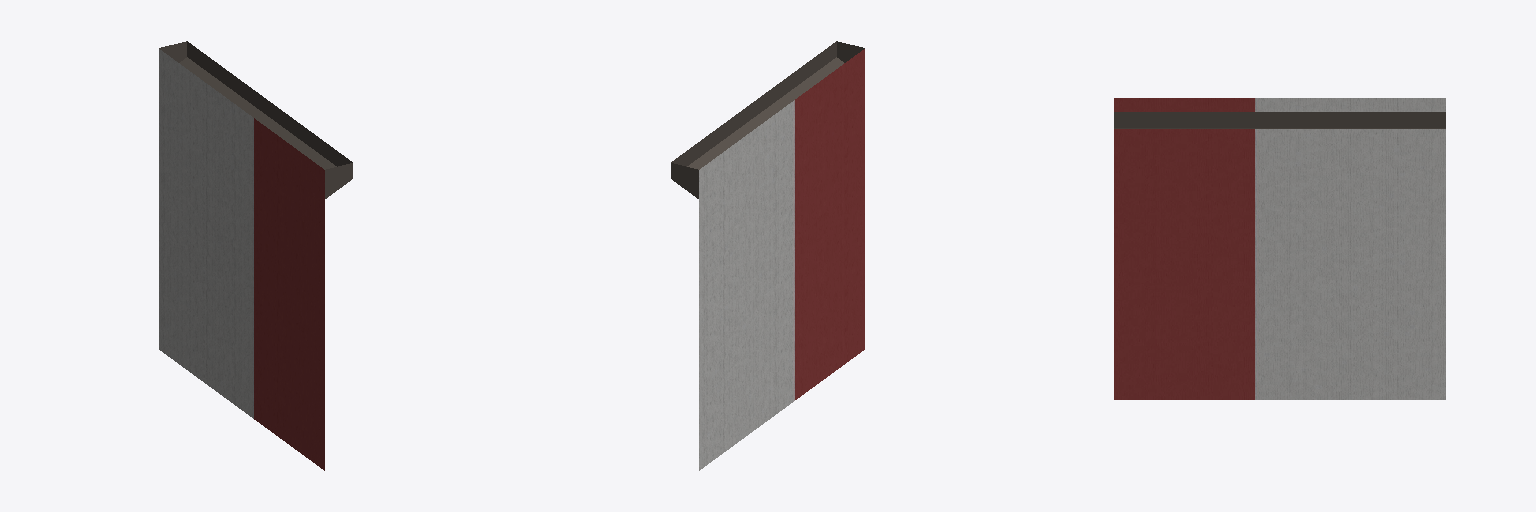
3 renders of one model, left to right at view 1: azimuth 30°, elevation 25°; view 2: azimuth 150°, elevation 25°; view 3: azimuth 270°, elevation 25°, orthographic.
Parts seen in each view (by area): view 1: Plane, Cube; view 2: Plane, Cube; view 3: Plane, Cube.
Part boxes in pixels (left/top/right/bottom): Plane: left=159, top=49, right=324, bottom=470; Cube: left=159, top=41, right=352, bottom=198; Plane: left=699, top=49, right=864, bottom=470; Cube: left=671, top=41, right=864, bottom=198; Plane: left=1114, top=98, right=1445, bottom=399; Cube: left=1114, top=112, right=1445, bottom=128.
Bounding box in the file's own units: 40 × 400 × 400.
Materials: 2 (2 with a texture image).